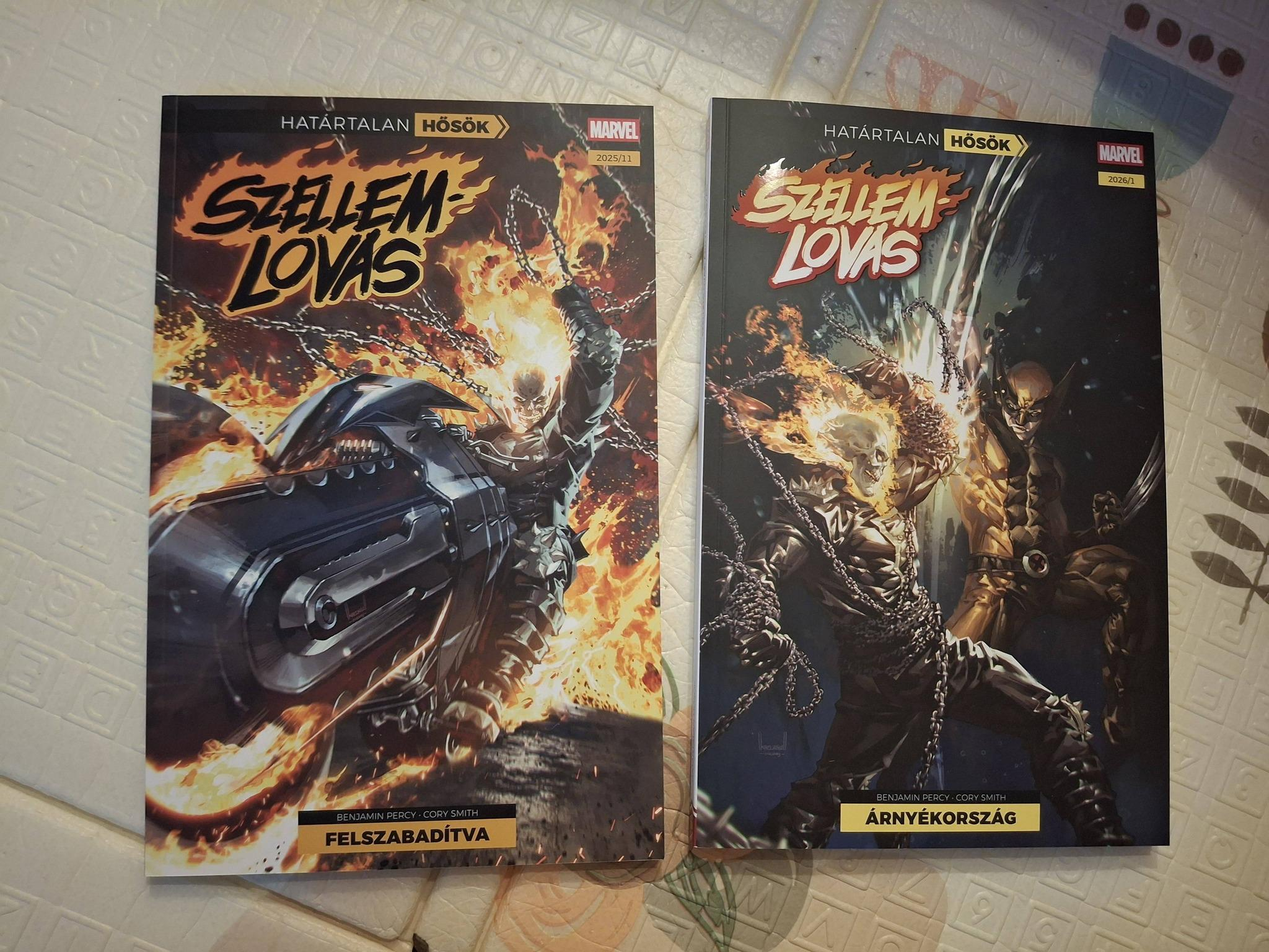comic: (136, 90, 664, 875), (696, 100, 1171, 848)
